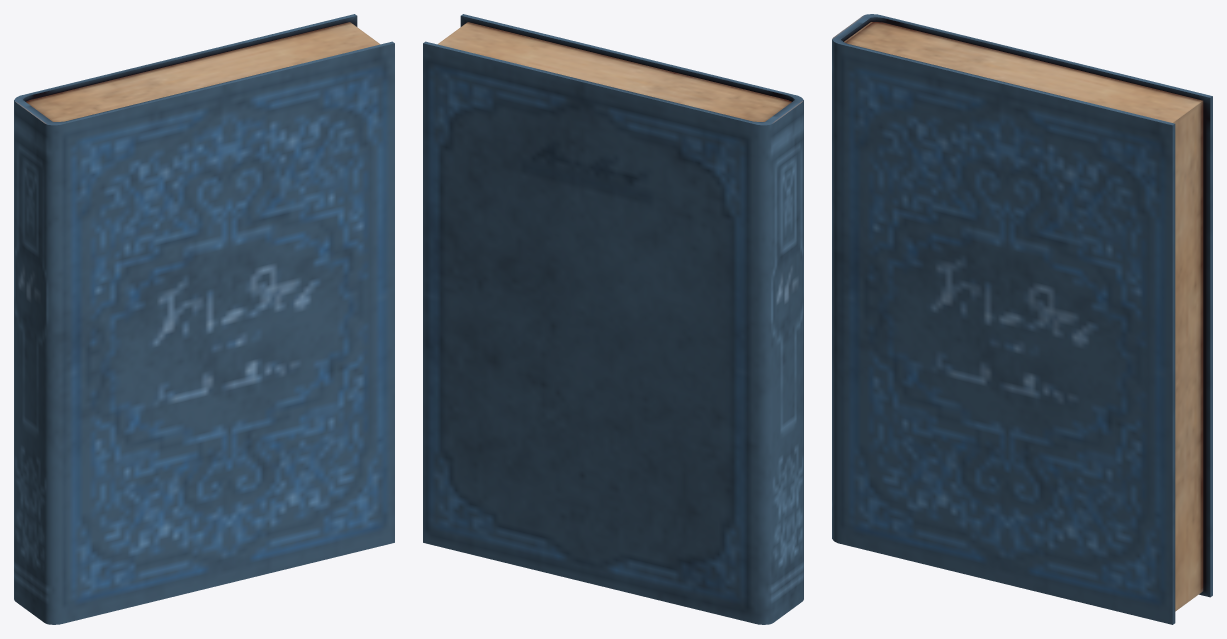
Rendered from sb_obj_indoor048_Book_J.fbx.
3 views of the same model, side by side, from view 1: azimuth 30°, elevation 25°; view 2: azimuth 150°, elevation 25°; view 3: azimuth 330°, elevation 25° (orthographic).
Parts seen in each view (by area): view 1: sb_obj_indoor048_Book_J; view 2: sb_obj_indoor048_Book_J; view 3: sb_obj_indoor048_Book_J.
Boxes of the visible parts, <box> form: sb_obj_indoor048_Book_J: <box>14,14,394,624</box>; sb_obj_indoor048_Book_J: <box>423,14,803,624</box>; sb_obj_indoor048_Book_J: <box>832,14,1212,624</box>.
Bounding box in the file's own units: 0.3071 × 0.4251 × 0.0617.
